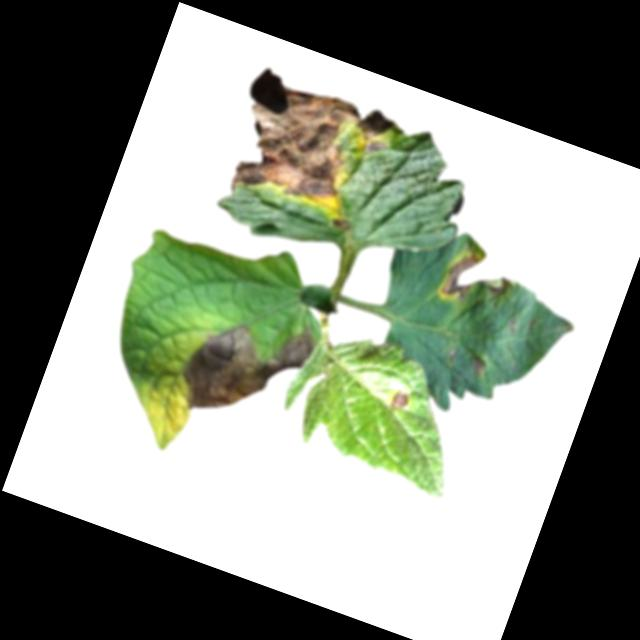Early_blight: (216, 63, 401, 236), (171, 290, 319, 440), (436, 245, 518, 319), (385, 386, 413, 414), (467, 352, 490, 373)
